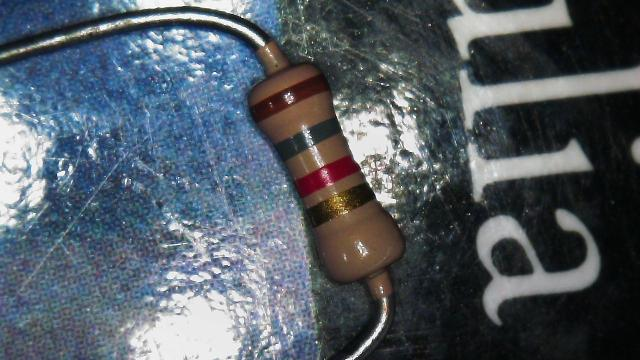brown: (249, 73, 328, 121)
gold: (304, 184, 374, 228)
grey: (272, 118, 341, 160)
red: (294, 155, 358, 198)
resistor: (204, 27, 440, 313)
